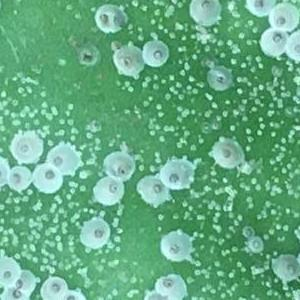Femea: (187, 0, 221, 24), (79, 221, 111, 246), (111, 45, 140, 71), (137, 176, 164, 202), (95, 6, 124, 30), (208, 141, 235, 166), (161, 237, 187, 261), (163, 161, 189, 184), (35, 165, 56, 193), (269, 7, 294, 30), (143, 42, 166, 67), (106, 155, 131, 178), (97, 177, 119, 203), (43, 149, 70, 170), (12, 134, 34, 159), (260, 30, 281, 55), (41, 280, 63, 299), (5, 169, 25, 189), (12, 272, 33, 289), (286, 35, 299, 61), (0, 262, 12, 287), (0, 291, 31, 299)
Linfa: (140, 71, 163, 90), (160, 81, 178, 102), (19, 240, 35, 261), (167, 77, 186, 94), (41, 106, 60, 123), (0, 226, 17, 245), (21, 104, 40, 121), (225, 37, 241, 56), (147, 117, 161, 138), (173, 105, 192, 118), (284, 123, 299, 138), (267, 185, 285, 196), (25, 213, 38, 228), (42, 225, 58, 237), (37, 264, 56, 274), (24, 229, 41, 239), (47, 202, 59, 216), (63, 188, 75, 201), (41, 251, 54, 263), (50, 232, 62, 245), (51, 194, 62, 207), (256, 82, 269, 93), (218, 106, 228, 120), (201, 91, 214, 101), (76, 168, 86, 180), (74, 183, 86, 193), (209, 98, 218, 111), (256, 113, 266, 124), (54, 241, 64, 252), (226, 122, 236, 132), (254, 127, 264, 136), (249, 176, 259, 185), (67, 180, 79, 187), (244, 126, 252, 136), (256, 122, 266, 130), (235, 87, 243, 95)
